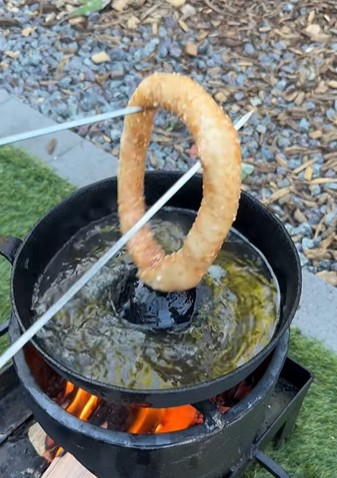sel_roti: (118, 70, 239, 292)
